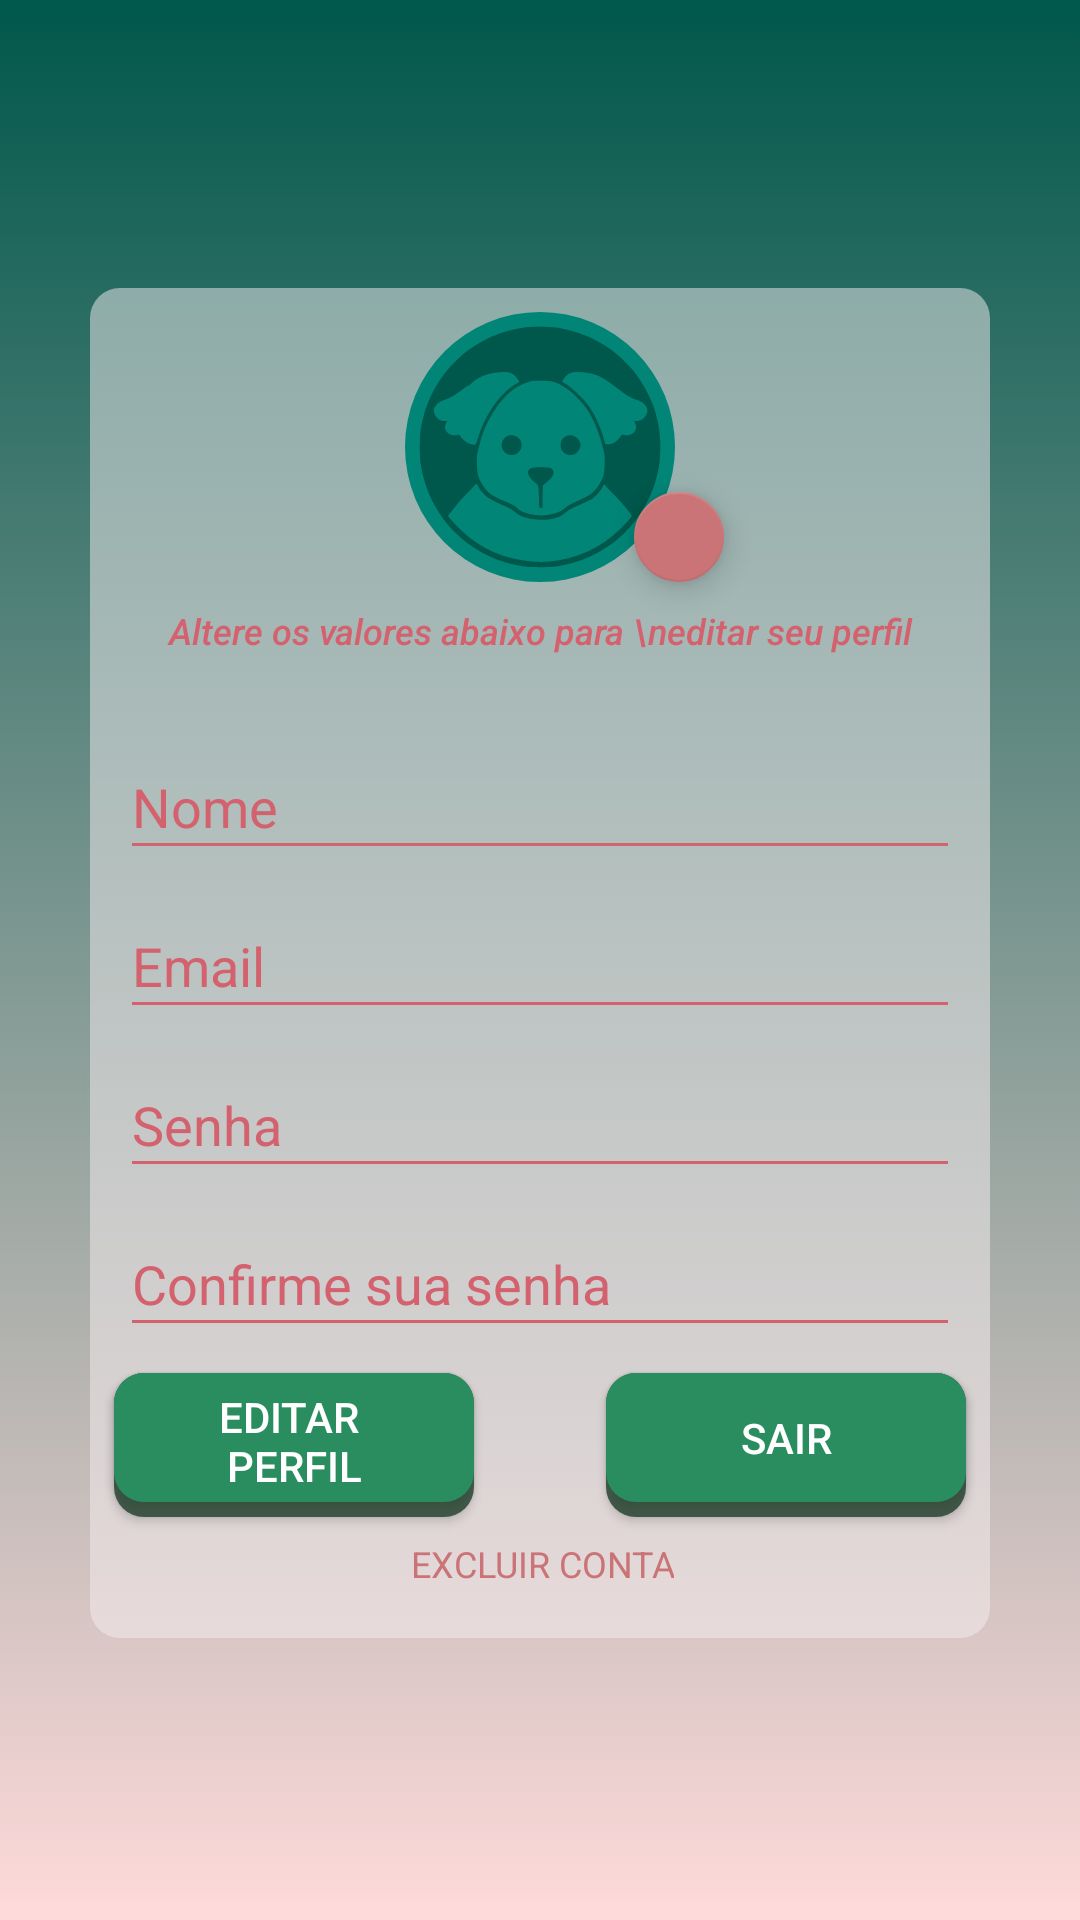

Where icons sit on this 1080×1920 app screen, as {"x1": x1, "y1": y1, "x2": x2, "y2": y2}:
dog perfil: {"x1": 405, "y1": 312, "x2": 675, "y2": 582}
